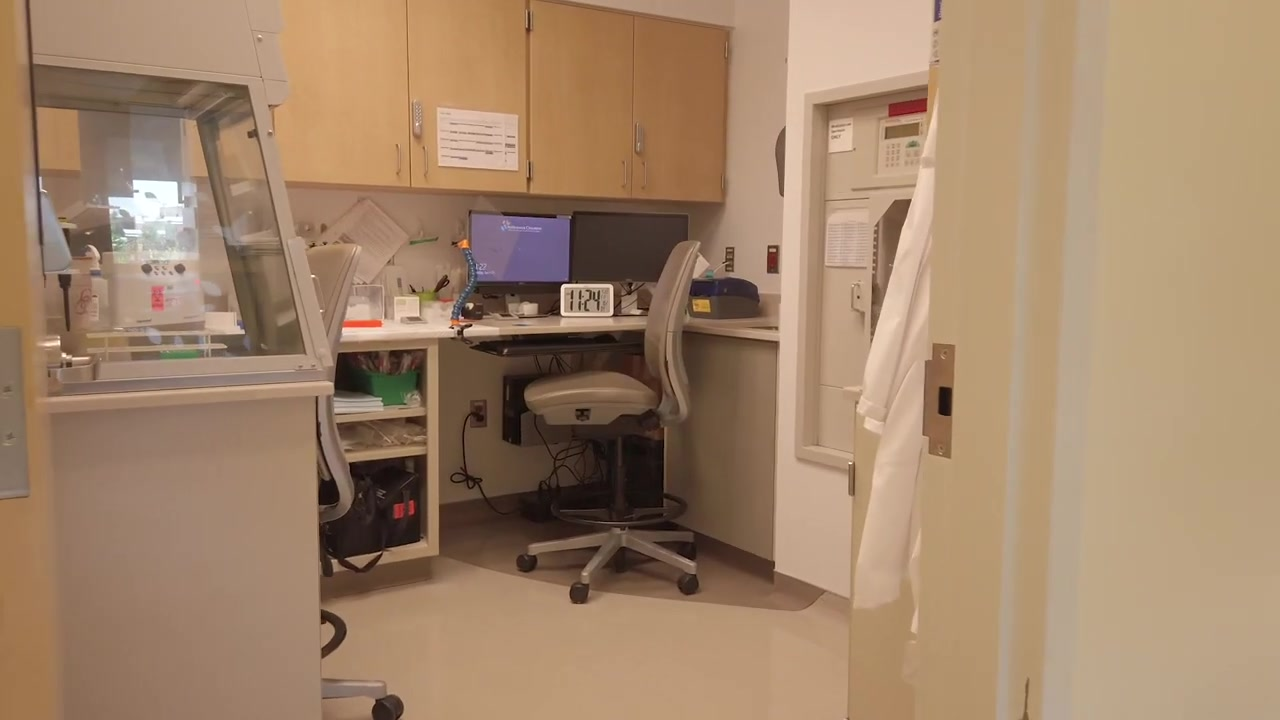cabinet: (29, 1, 727, 200), (310, 350, 444, 561)
chair: (516, 239, 702, 604), (306, 245, 405, 720)
computer: (465, 208, 574, 295), (573, 210, 690, 284)
countertop: (240, 308, 783, 345)
dispenser: (79, 244, 112, 333)
handle: (849, 279, 868, 315), (419, 142, 432, 178), (393, 139, 405, 177), (619, 156, 632, 188), (639, 158, 651, 191)
